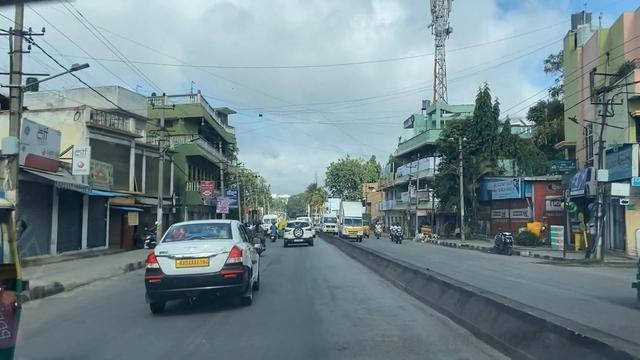LMV: (142, 219, 259, 309), (284, 221, 314, 248)
